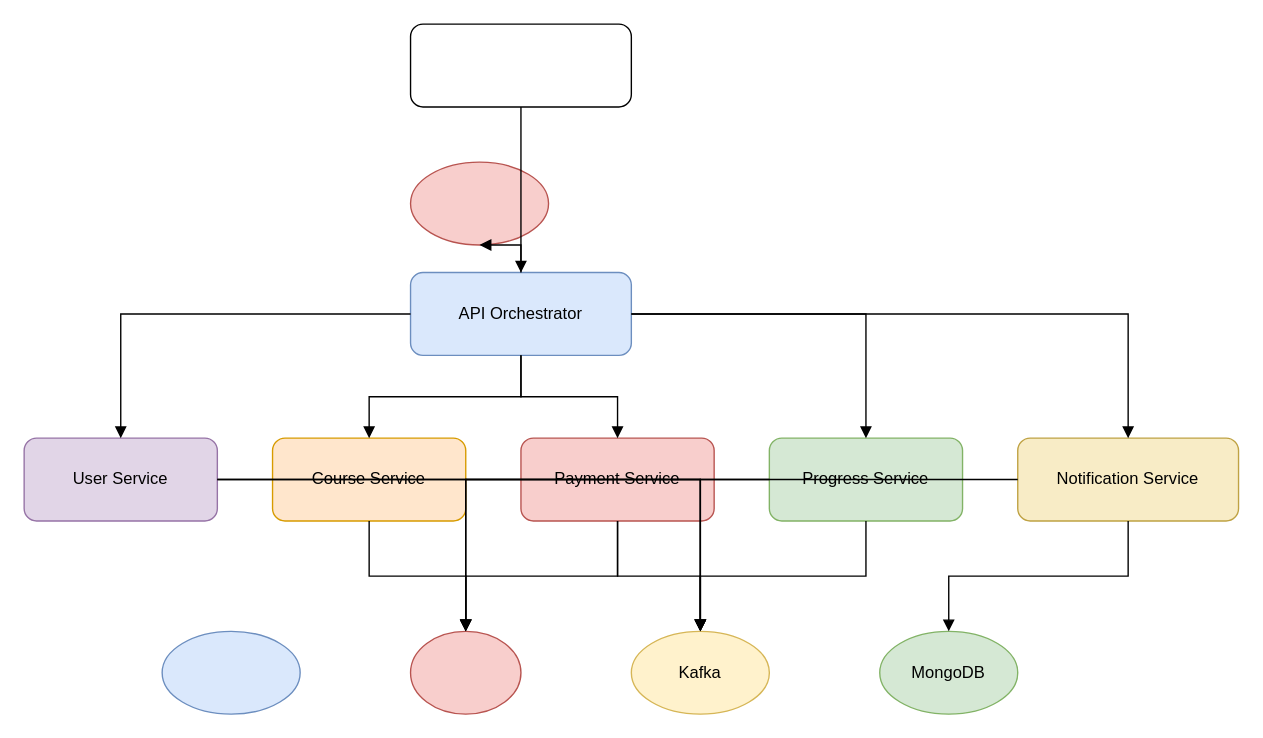
Image size: 1263x738. Some labels were removed from this diagram. Each missing label, with the centre of its shape:
Auth0: point 479,203
Client (Web/ Mobile): point 520,65
PostgreSQL: point 230,672
Redis: point 465,672
